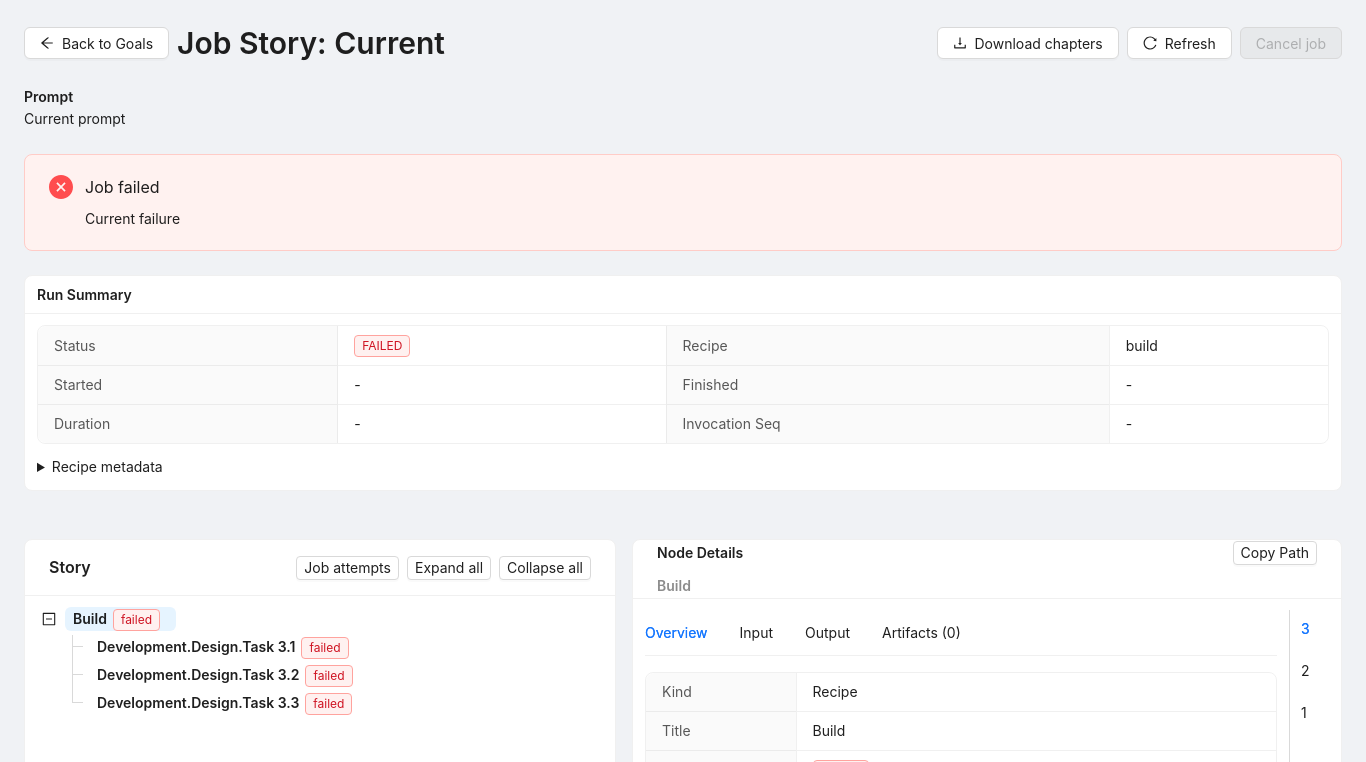
it: job story context › keeps context independent of historical task selection
This screenshot has width=1366, height=762.
What coordinates should you click on to do the following:
click the tab named "Job attempt 1"
I would click on:
 (1304, 713)
Its box is top-left (1301, 702), bottom-right (1307, 724).
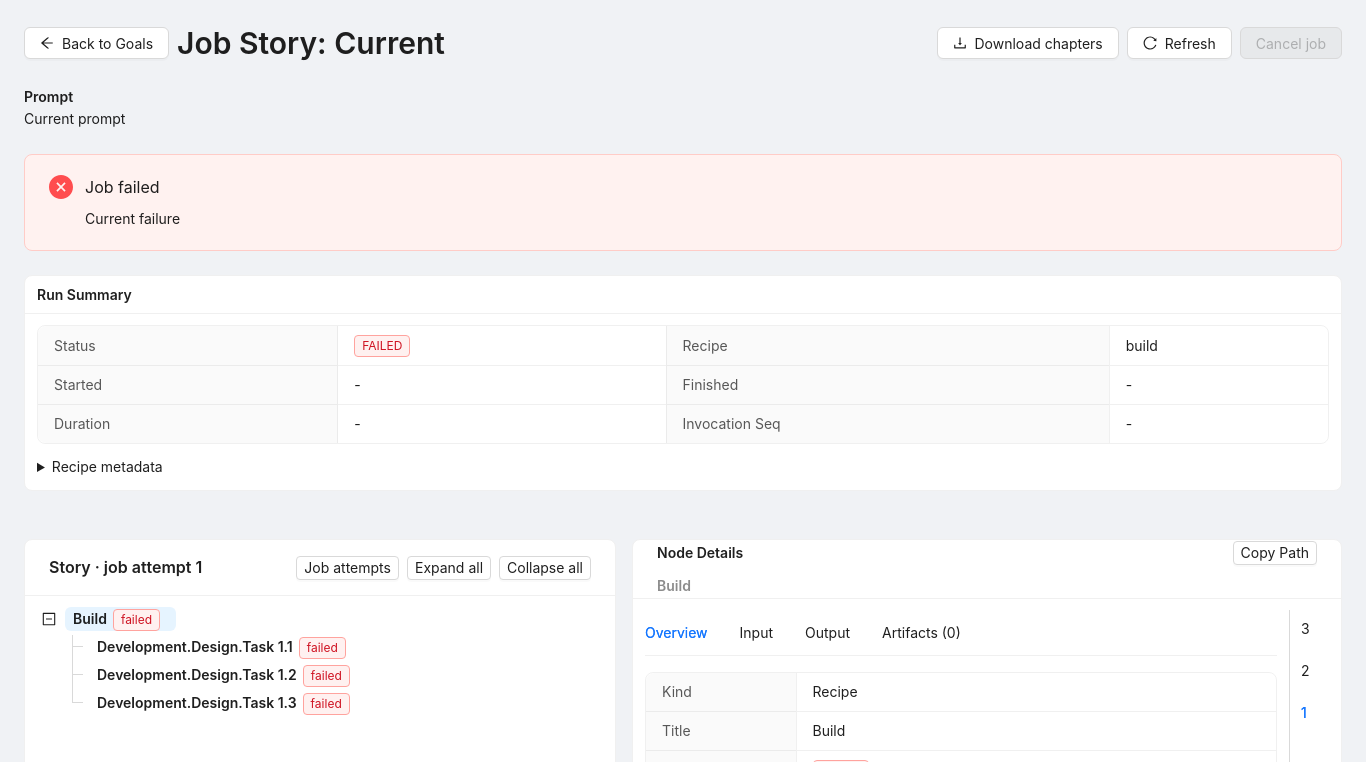
What coordinates should you click on to do the following:
click the text "Development.Design.Task 1.2"
I would click on:
 (197, 675)
Its box is top-left (97, 666), bottom-right (297, 683).
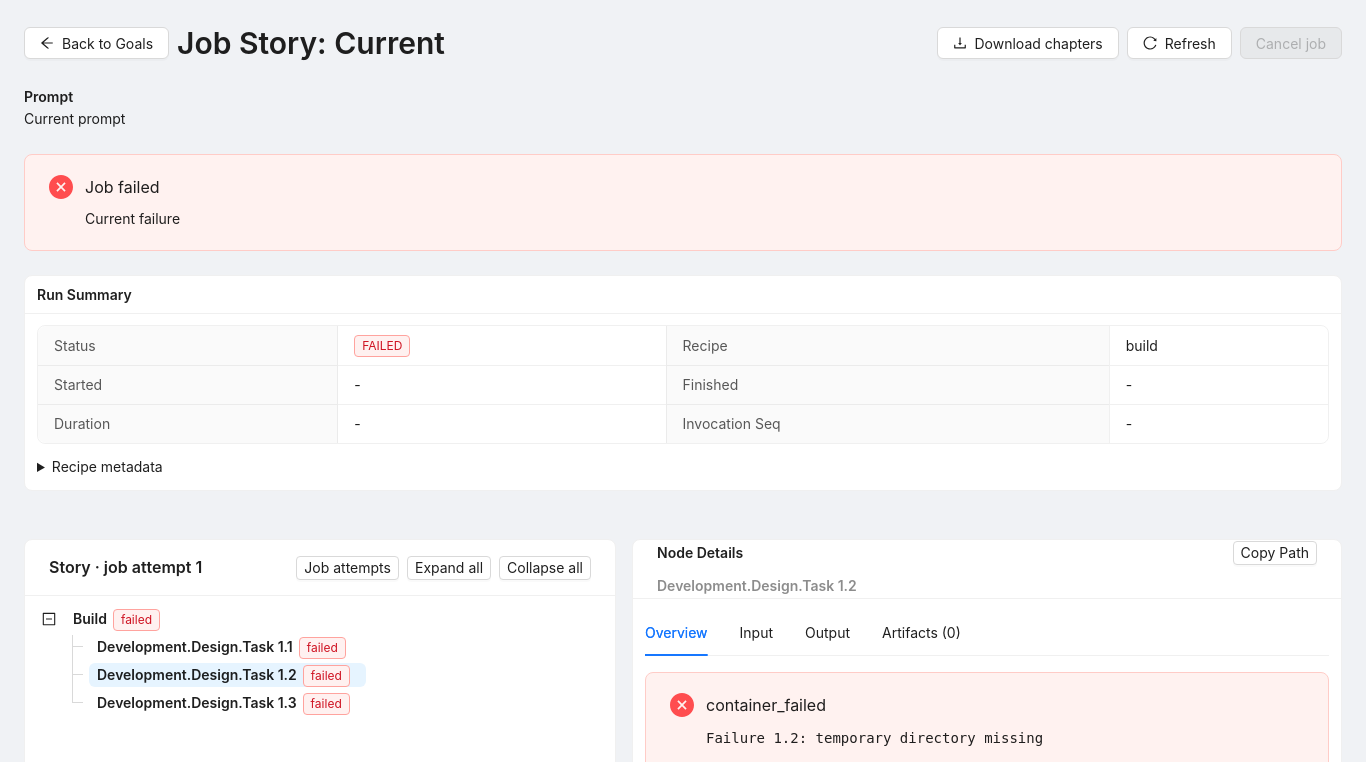
expect the text "Current failure" is shown: met, box top-left (85, 210), bottom-right (180, 227)
expect the text "Failure 1.2: temporary directory missing" is shown: met, box top-left (706, 730), bottom-right (1043, 746)
